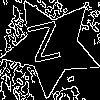Z: (26, 21, 66, 72)
